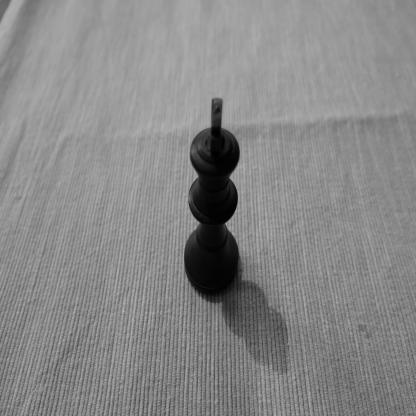black-king: (183, 97, 241, 296)
